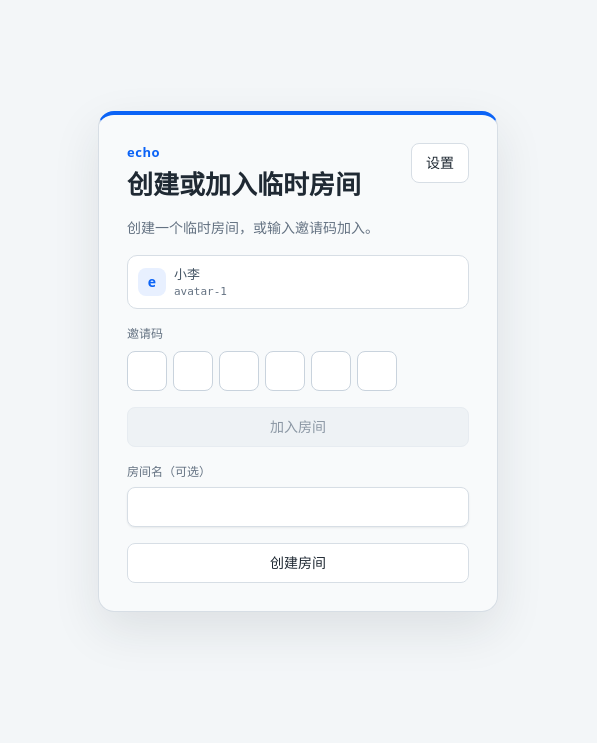
App local settings entry › reports microphone discovery failure alongside output fallback
This screenshot has width=597, height=743.
Click the button "设置". click: [440, 162]
box: [411, 142, 469, 182]
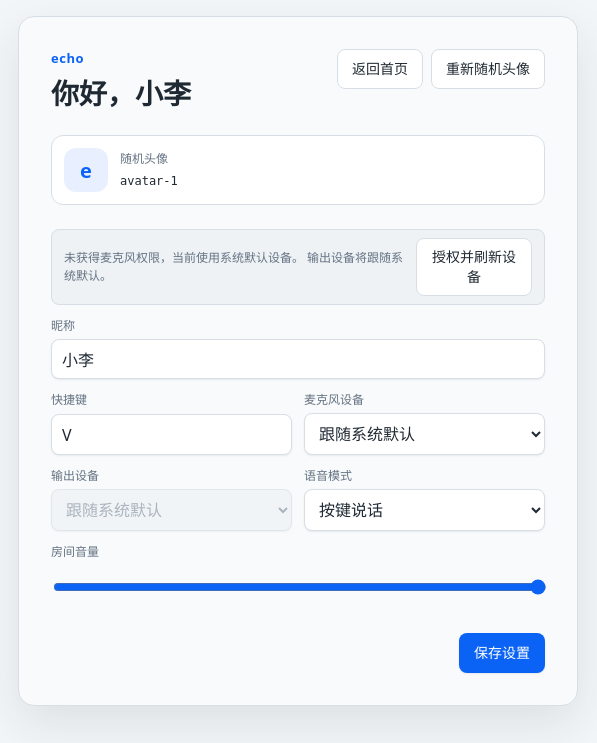
expect the button "保存设置" is shown: met, box [459, 633, 545, 673]
expect the message shows "未获得麦克风权限，当前使用系统默认设备。": met, box [64, 249, 403, 284]
expect the message shows "输出设备将跟随系统默认。": met, box [64, 249, 403, 284]
